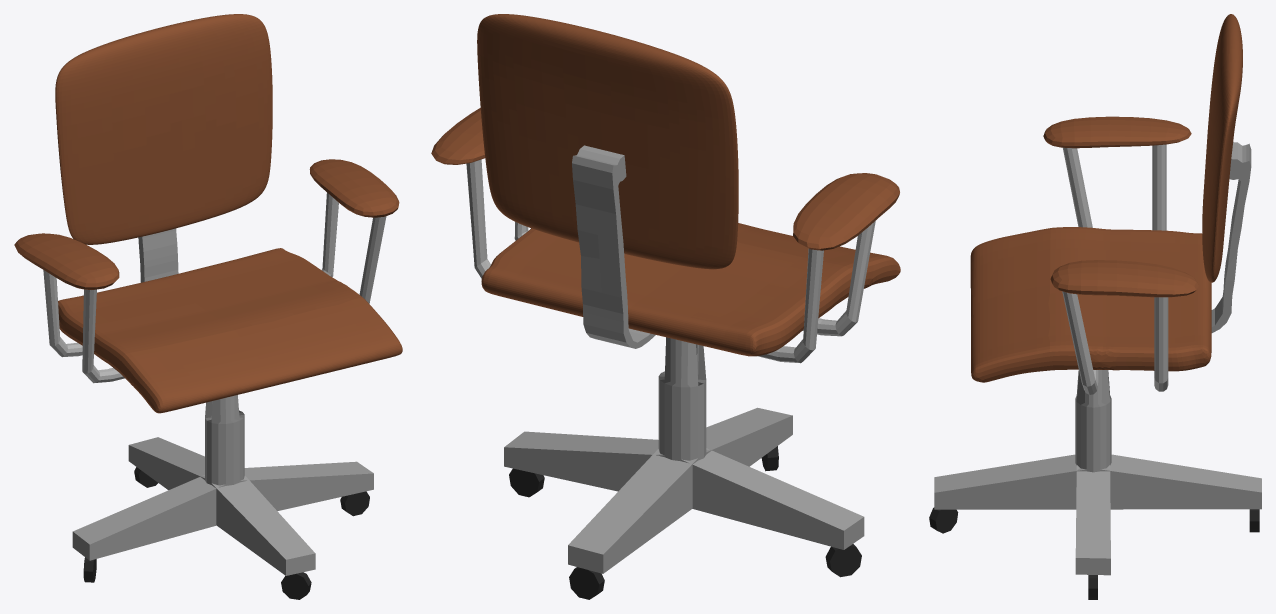
Rendered from office_chair.fbx.
The picture shows the model from 3 angles, left to right: view 1: azimuth 30°, elevation 25°; view 2: azimuth 150°, elevation 25°; view 3: azimuth 270°, elevation 25°; orthographic projection. The views are drawn at different scales.
Visible parts, largest first — view 1: chair.002; view 2: chair.002; view 3: chair.002.
Part boxes in pixels (left/top/right/bottom): chair.002: left=14, top=14, right=402, bottom=599; chair.002: left=431, top=14, right=900, bottom=599; chair.002: left=929, top=14, right=1261, bottom=599.
Bounding box in the file's own units: 757 × 986 × 612.
